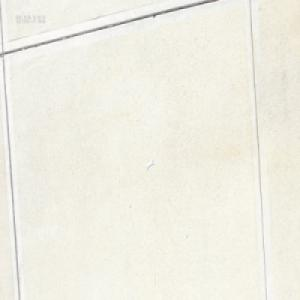Wrench: (145, 160, 153, 170)
